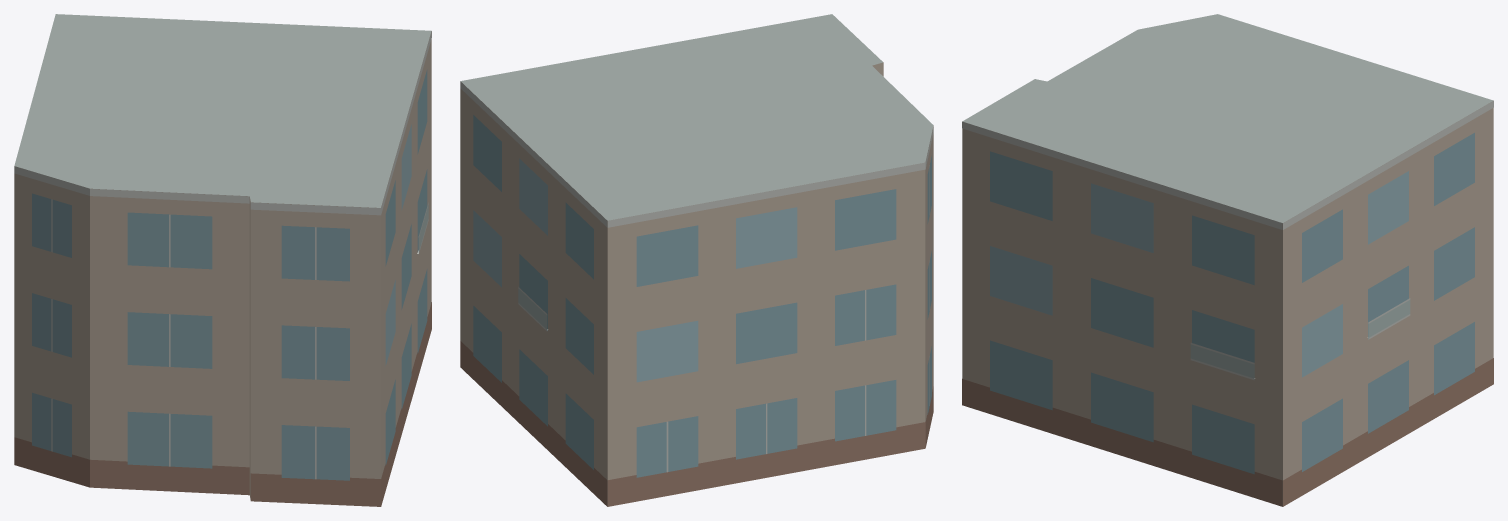
File: survey-upis-32890389.glb
The picture shows the model from 3 angles, left to right: view 1: azimuth 30°, elevation 25°; view 2: azimuth 150°, elevation 25°; view 3: azimuth 270°, elevation 25°; orthographic projection. The views are drawn at different scales.
Parts seen in each view (by area): view 1: survey-upis-32890389.tmp; view 2: survey-upis-32890389.tmp; view 3: survey-upis-32890389.tmp.
Part boxes in pixels (left/top/right/bottom): survey-upis-32890389.tmp: left=14, top=14, right=431, bottom=506; survey-upis-32890389.tmp: left=460, top=14, right=933, bottom=506; survey-upis-32890389.tmp: left=962, top=14, right=1493, bottom=506.
Size of the model in its own units: 15.66 by 9.9 by 16.82.
